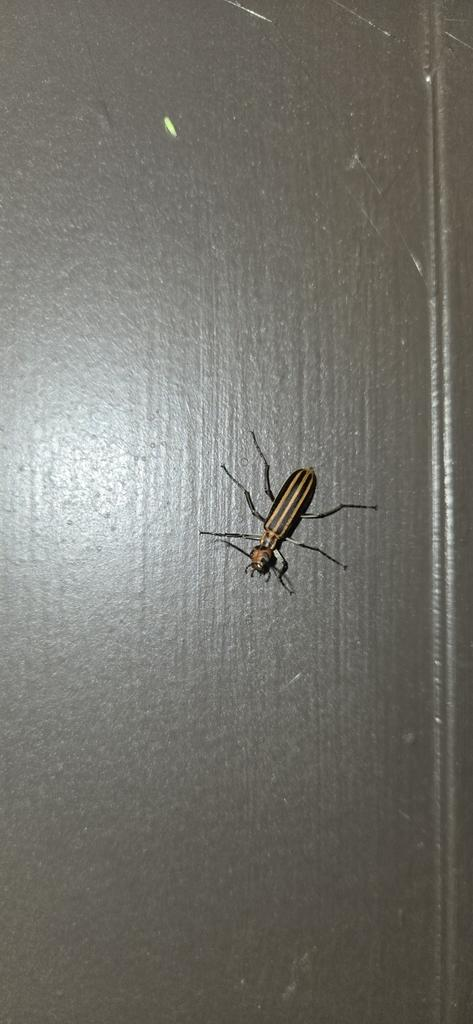blister_beetle: (160, 395, 405, 638)
